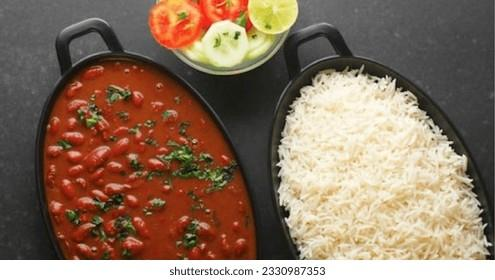rajma: (54, 73, 248, 260)
rice: (271, 73, 495, 257)
